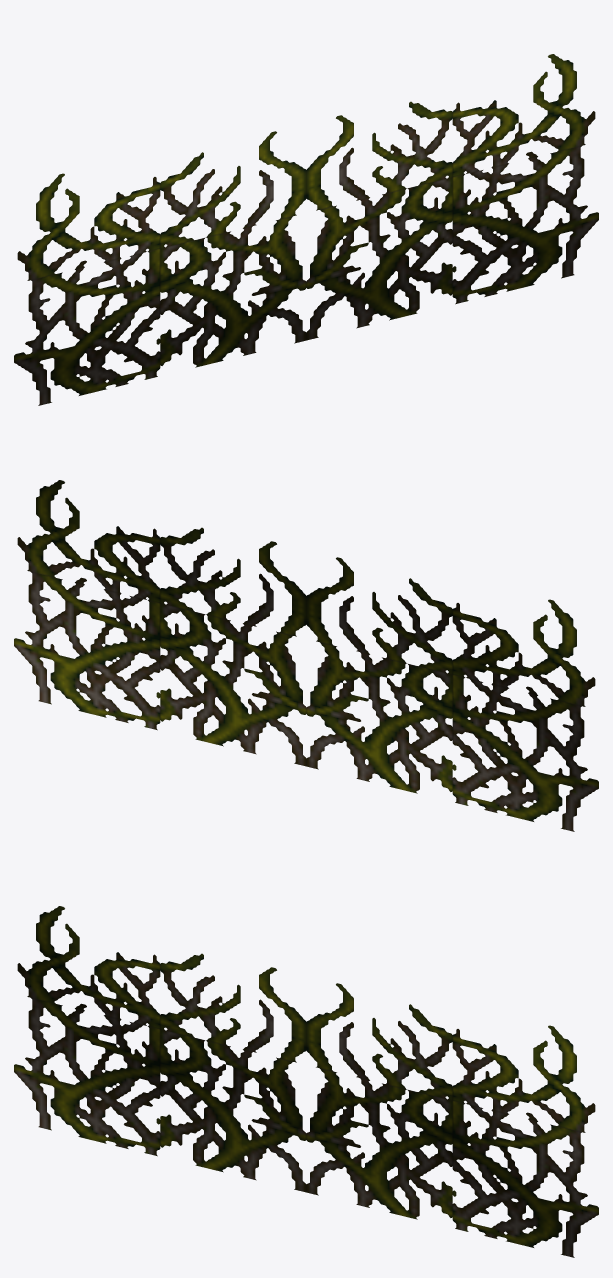
The picture shows the model from 3 angles, top to bottom: view 1: azimuth 30°, elevation 25°; view 2: azimuth 150°, elevation 25°; view 3: azimuth 330°, elevation 25°; orthographic projection.
Visible parts, largest first — view 1: T1L4M006_11; view 2: T1L4M006_11; view 3: T1L4M006_11.
Boxes of the visible parts, bbox=[...] form: T1L4M006_11: bbox=[14, 54, 598, 405]; T1L4M006_11: bbox=[14, 480, 598, 831]; T1L4M006_11: bbox=[14, 906, 598, 1257].
Size of the model in its own units: 4.8 by 2 by 0.
